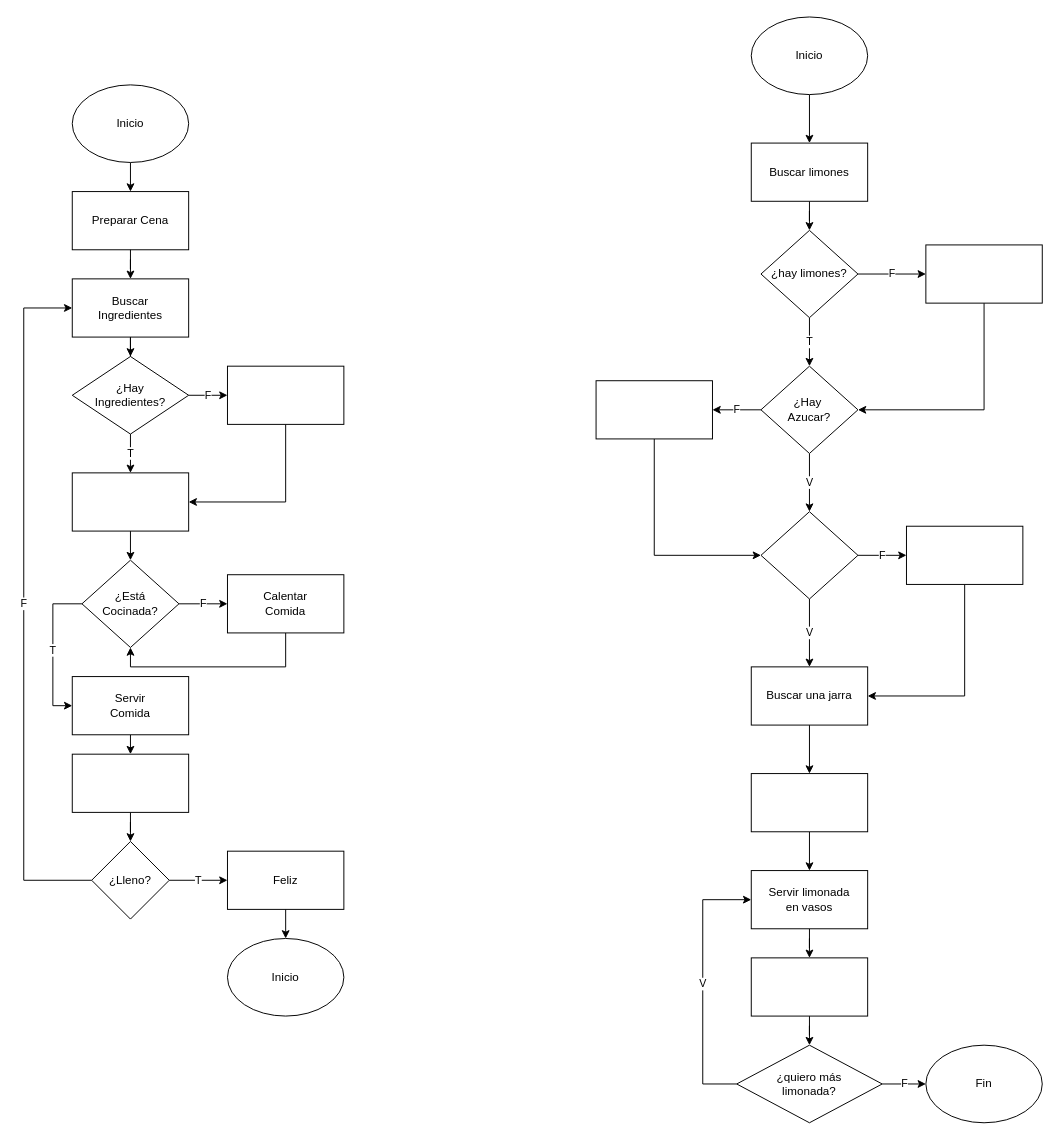
This 1059x1140 diagram has some shape labels left out. Each missing label, with the box of its shape:
Beber la limonada: (750, 957, 868, 1016)
Cocinar Ingredientes: (71, 472, 189, 531)
Comer Comida: (71, 753, 189, 812)
Comprar Azucar: (595, 380, 712, 439)
Comprar limones: (925, 244, 1042, 303)
Ir al super: (226, 365, 344, 424)
Llamar una sisterna: (905, 525, 1023, 584)
Preparar Limonada: (750, 773, 868, 832)
¿Hay agua?: (760, 511, 858, 599)
